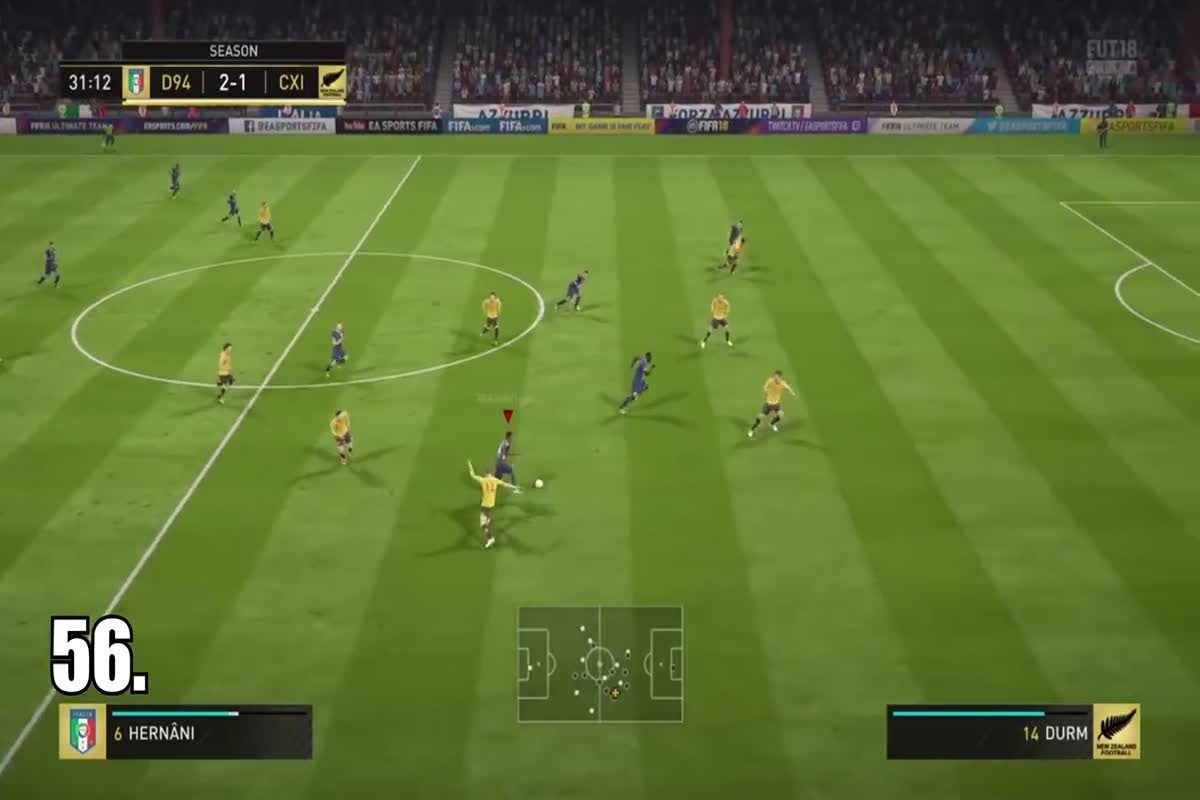ball: (529, 469, 552, 499)
